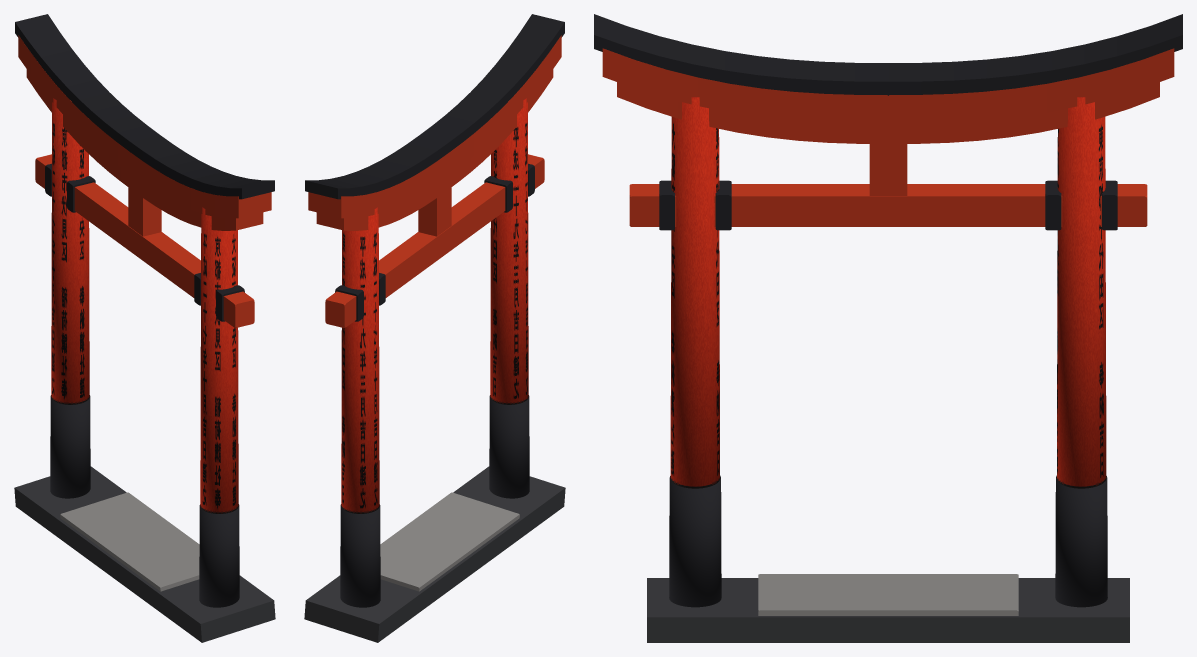
Rendered from Asset_09_Senbon_Torii_Modular_Segment.fbx.
3 renders of one model, left to right at view 1: azimuth 30°, elevation 25°; view 2: azimuth 150°, elevation 25°; view 3: azimuth 270°, elevation 25°, orthographic. The views are drawn at different scales.
Parts seen in each view (by area): view 1: Z04_Senbon_North_00_Hashira_-1, Z04_Senbon_North_00_Hashira_1, Z04_Senbon_North_00_Kasagi_BlackCap, Z04_North_PebbleBed_00, Z04_North_Flagstone_00, Z04_Senbon_North_00_Nuki, Z04_Senbon_North_00_Kasagi_Body, Z04_Senbon_North_00_Nemaki_1, Z04_Senbon_North_00_Nemaki_-1, Z04_Senbon_North_00_Shimaki, Z04_Senbon_North_00_Gakuzuka, Z04_Senbon_North_00_Kusabi_1_-1 (+1 smaller); view 2: Z04_Senbon_North_00_Hashira_1, Z04_Senbon_North_00_Hashira_-1, Z04_Senbon_North_00_Kasagi_BlackCap, Z04_North_PebbleBed_00, Z04_North_Flagstone_00, Z04_Senbon_North_00_Nuki, Z04_Senbon_North_00_Kasagi_Body, Z04_Senbon_North_00_Nemaki_-1, Z04_Senbon_North_00_Nemaki_1, Z04_Senbon_North_00_Shimaki, Z04_Senbon_North_00_Gakuzuka, Z04_Senbon_North_00_Kusabi_-1_1 (+1 smaller); view 3: Z04_Senbon_North_00_Kasagi_BlackCap, Z04_North_PebbleBed_00, Z04_Senbon_North_00_Hashira_-1, Z04_Senbon_North_00_Hashira_1, Z04_Senbon_North_00_Kasagi_Body, Z04_Senbon_North_00_Nuki, Z04_North_Flagstone_00, Z04_Senbon_North_00_Shimaki, Z04_Senbon_North_00_Nemaki_-1, Z04_Senbon_North_00_Nemaki_1, Z04_Senbon_North_00_Gakuzuka, Z04_Senbon_North_00_Kusabi_-1_1 (+1 smaller).
Part boxes in pixels (x1,y1,x2,y2): Z04_Senbon_North_00_Hashira_-1: (200,207,238,513); Z04_Senbon_North_00_Hashira_1: (51,98,89,404); Z04_Senbon_North_00_Kasagi_BlackCap: (15,14,274,199); Z04_North_PebbleBed_00: (14,466,275,642); Z04_North_Flagstone_00: (60,492,199,591); Z04_Senbon_North_00_Nuki: (35,154,254,327); Z04_Senbon_North_00_Kasagi_Body: (18,35,271,218); Z04_Senbon_North_00_Nemaki_1: (50,395,90,498); Z04_Senbon_North_00_Nemaki_-1: (199,504,239,607); Z04_Senbon_North_00_Shimaki: (26,69,263,230); Z04_Senbon_North_00_Gakuzuka: (128,187,161,236); Z04_Senbon_North_00_Kusabi_1_-1: (67,176,95,212); Z04_Senbon_North_00_Hashira_1: (341,207,379,513); Z04_Senbon_North_00_Hashira_-1: (490,98,528,404); Z04_Senbon_North_00_Kasagi_BlackCap: (305,14,564,199); Z04_North_PebbleBed_00: (304,466,565,642); Z04_North_Flagstone_00: (380,492,519,591); Z04_Senbon_North_00_Nuki: (325,154,544,327); Z04_Senbon_North_00_Kasagi_Body: (308,35,561,218); Z04_Senbon_North_00_Nemaki_-1: (489,395,529,498); Z04_Senbon_North_00_Nemaki_1: (340,504,380,607); Z04_Senbon_North_00_Shimaki: (316,69,553,230); Z04_Senbon_North_00_Gakuzuka: (418,187,451,236); Z04_Senbon_North_00_Kusabi_-1_1: (484,176,512,212); Z04_Senbon_North_00_Kasagi_BlackCap: (594,14,1182,95); Z04_North_PebbleBed_00: (647,578,1129,642); Z04_Senbon_North_00_Hashira_-1: (670,97,720,488); Z04_Senbon_North_00_Hashira_1: (1056,97,1106,488); Z04_Senbon_North_00_Kasagi_Body: (602,48,1174,123); Z04_Senbon_North_00_Nuki: (629,184,1147,226); Z04_North_Flagstone_00: (758,574,1018,615); Z04_Senbon_North_00_Shimaki: (617,82,1159,143); Z04_Senbon_North_00_Nemaki_-1: (669,475,721,607); Z04_Senbon_North_00_Nemaki_1: (1055,475,1107,607); Z04_Senbon_North_00_Gakuzuka: (869,144,907,195); Z04_Senbon_North_00_Kusabi_-1_1: (715,180,731,230).
Bounding box in the file's own units: 56.88 × 337 × 299.
5 materials, 1 textured.
